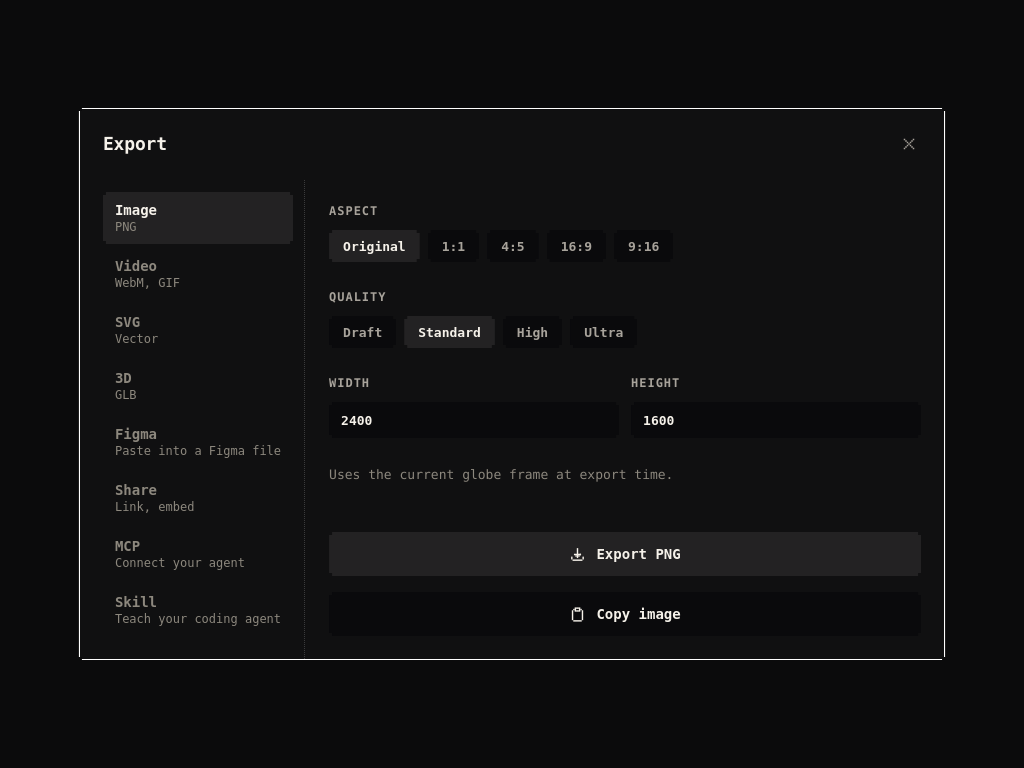
Test: ExportModal › the 3D tab › shows the file's size for the Dots picked, and over 20 MB suggests Instanced
This screenshot has width=1024, height=768.
Click the tab "3D GLB". click: (198, 386)
box: [103, 360, 293, 412]
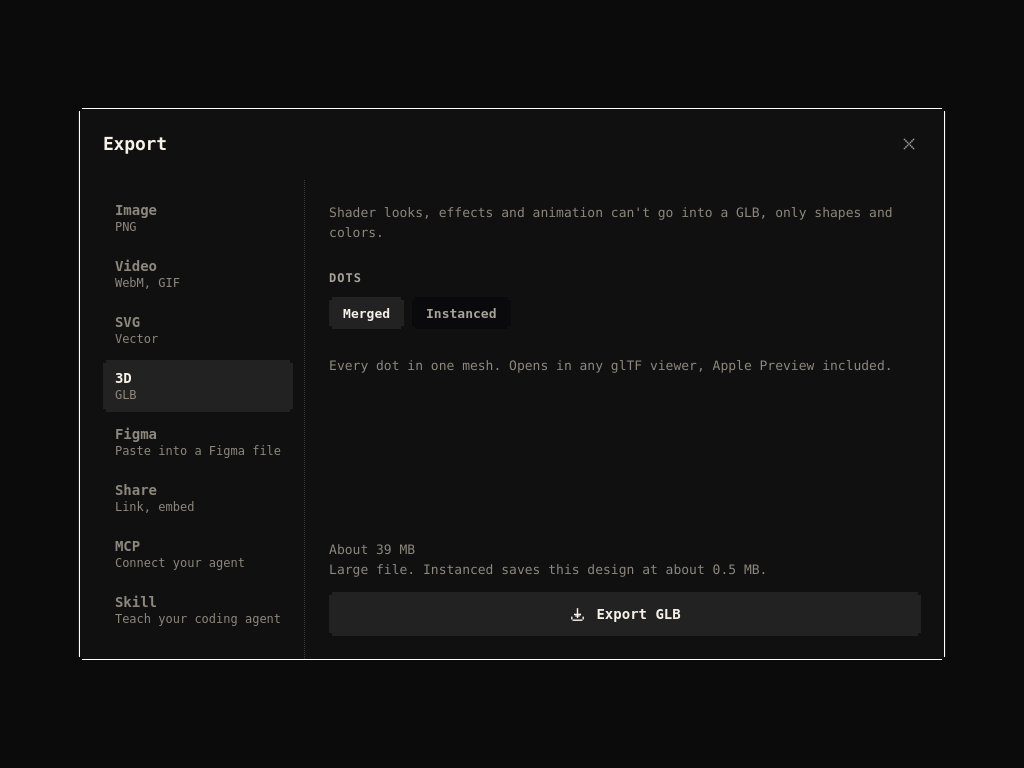
Click the button "Instanced". click: (461, 313)
box: [412, 297, 510, 329]
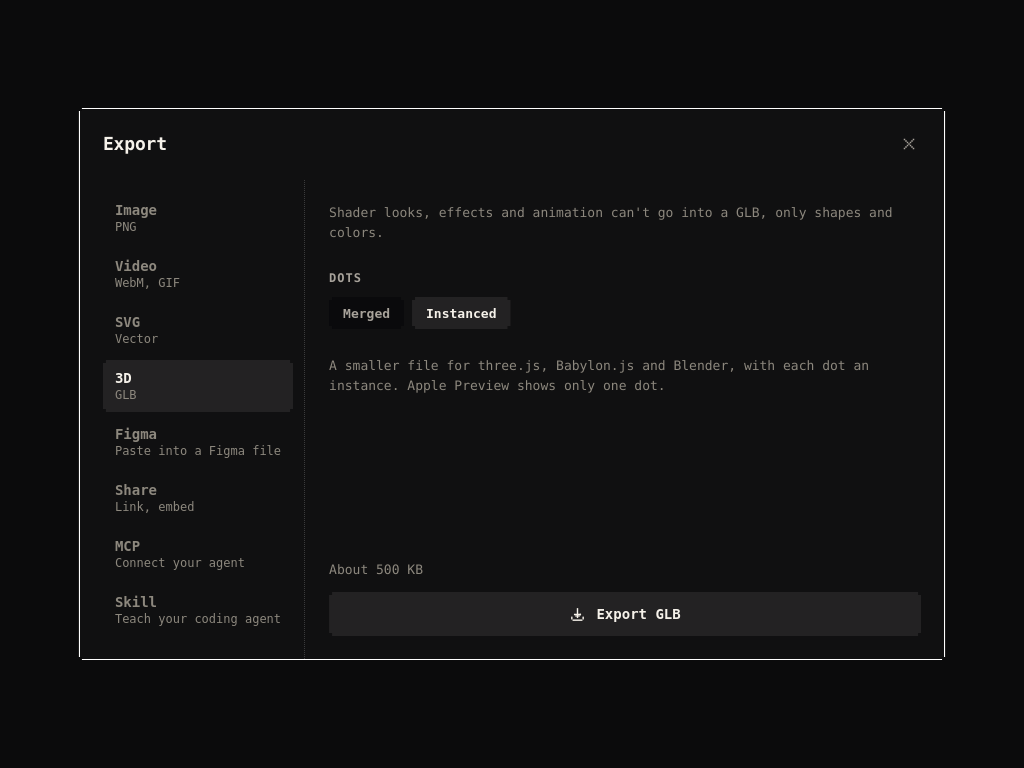
expect the message reads "About 500 KB": met, box [329, 562, 423, 578]
Click the button "Merged". click: (367, 313)
box: [329, 297, 404, 329]
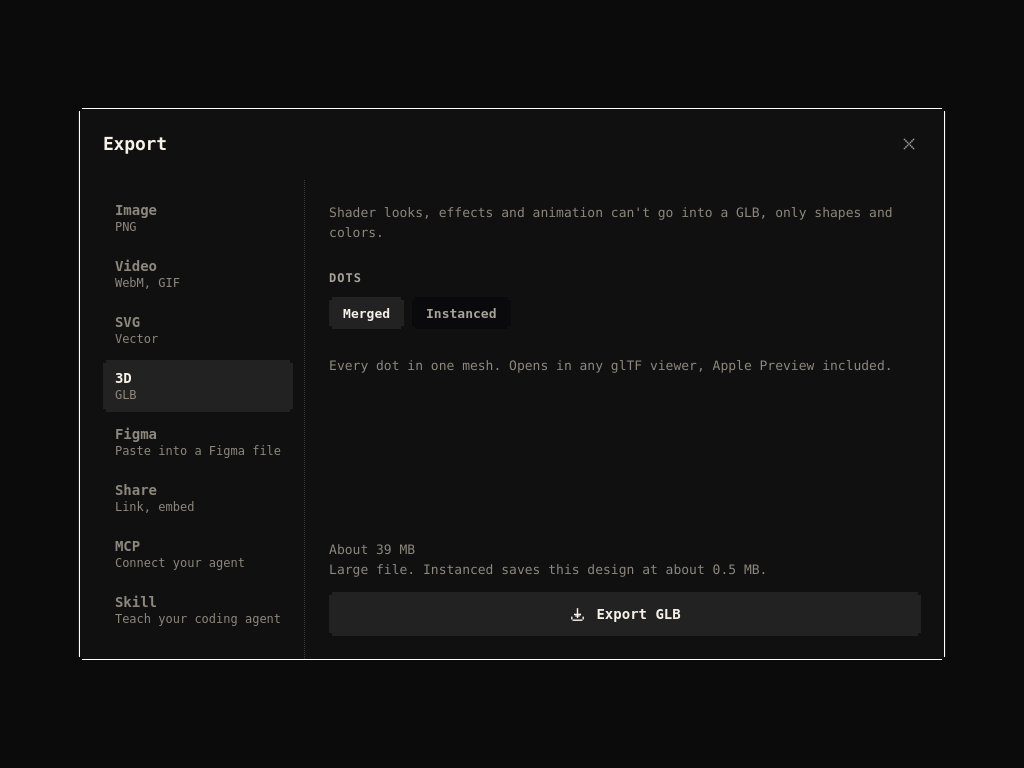
expect the message shows "Large file.": met, box [329, 562, 705, 578]
